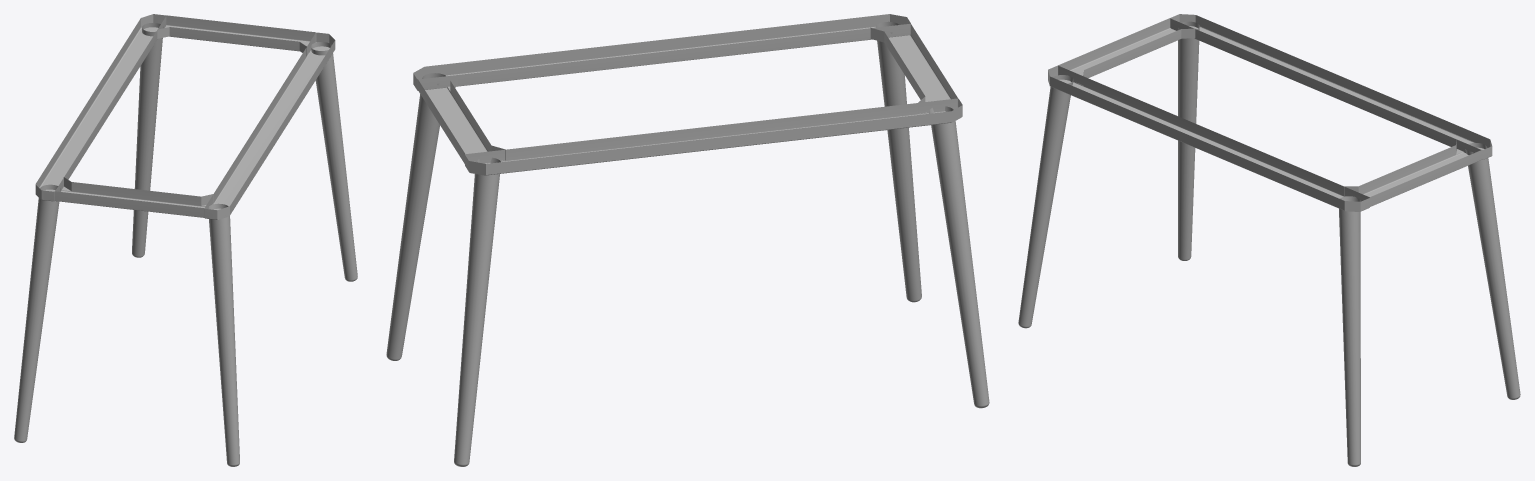
The model's file is diningtable_0102_leg.glb.
3 renders of one model, left to right at view 1: azimuth 30°, elevation 25°; view 2: azimuth 150°, elevation 25°; view 3: azimuth 270°, elevation 25°, orthographic. The views are drawn at different scales.
Parts seen in each view (by area): view 1: diningtable_0102_leg; view 2: diningtable_0102_leg; view 3: diningtable_0102_leg.
Boxes of the visible parts, bbox=[...] form: diningtable_0102_leg: bbox=[14, 14, 357, 466]; diningtable_0102_leg: bbox=[386, 14, 989, 466]; diningtable_0102_leg: bbox=[1018, 14, 1520, 466].
Size of the model in its own units: 1.28 by 0.7197 by 1.28.
Materials: 1 (1 with a texture image).
